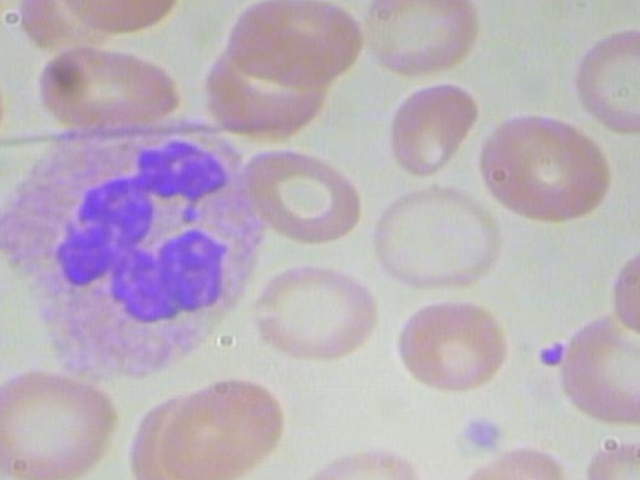Platelets: (454, 412, 510, 457), (534, 338, 577, 370)
RBC: (472, 110, 617, 230), (362, 182, 505, 299), (243, 255, 385, 367), (145, 374, 295, 480), (21, 44, 190, 135), (0, 366, 129, 480), (232, 142, 367, 250), (395, 292, 520, 398), (228, 0, 373, 89), (551, 302, 640, 435), (361, 0, 481, 83), (389, 72, 477, 180), (575, 23, 640, 142), (603, 237, 640, 348)
WBC: (0, 113, 285, 386)
